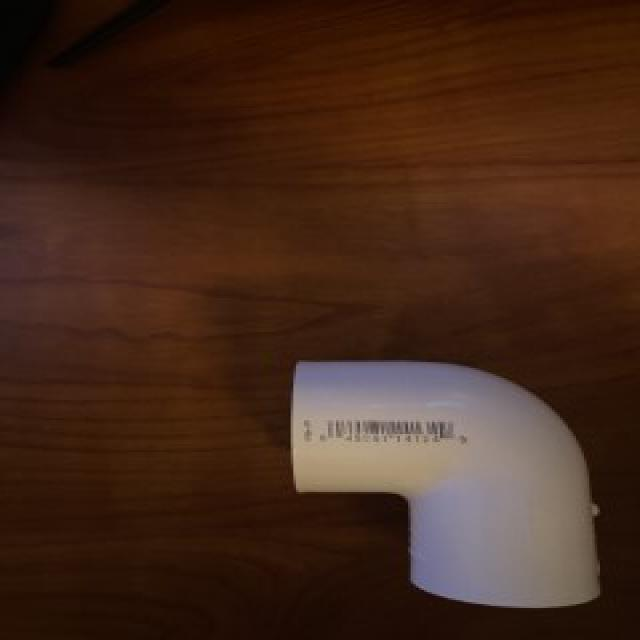L Joint: (288, 361, 602, 611)
